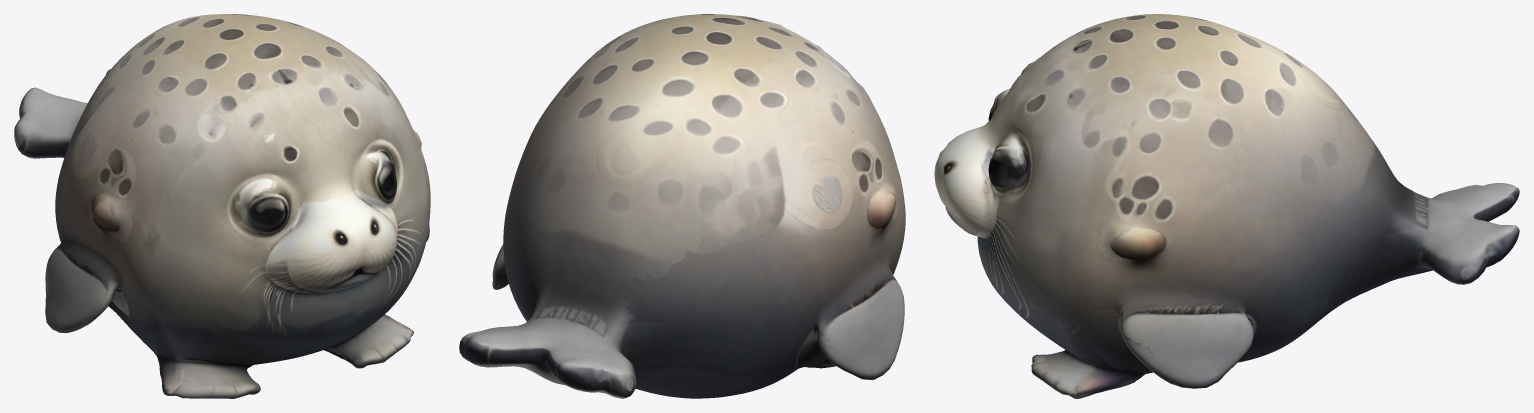
The model's file is a_bubble_seal.glb.
3 views of the same model, side by side, from view 1: azimuth 30°, elevation 25°; view 2: azimuth 150°, elevation 25°; view 3: azimuth 270°, elevation 25° (orthographic). The views are drawn at different scales.
Visible parts, largest first — view 1: Object_2; view 2: Object_2; view 3: Object_2.
Part boxes in pixels (<box>): Object_2: <box>14,14,430,398</box>; Object_2: <box>459,14,905,398</box>; Object_2: <box>934,14,1519,398</box>.
Size of the model in its own units: 1.45 by 1.18 by 2.
Materials: 1 (1 with a texture image).
